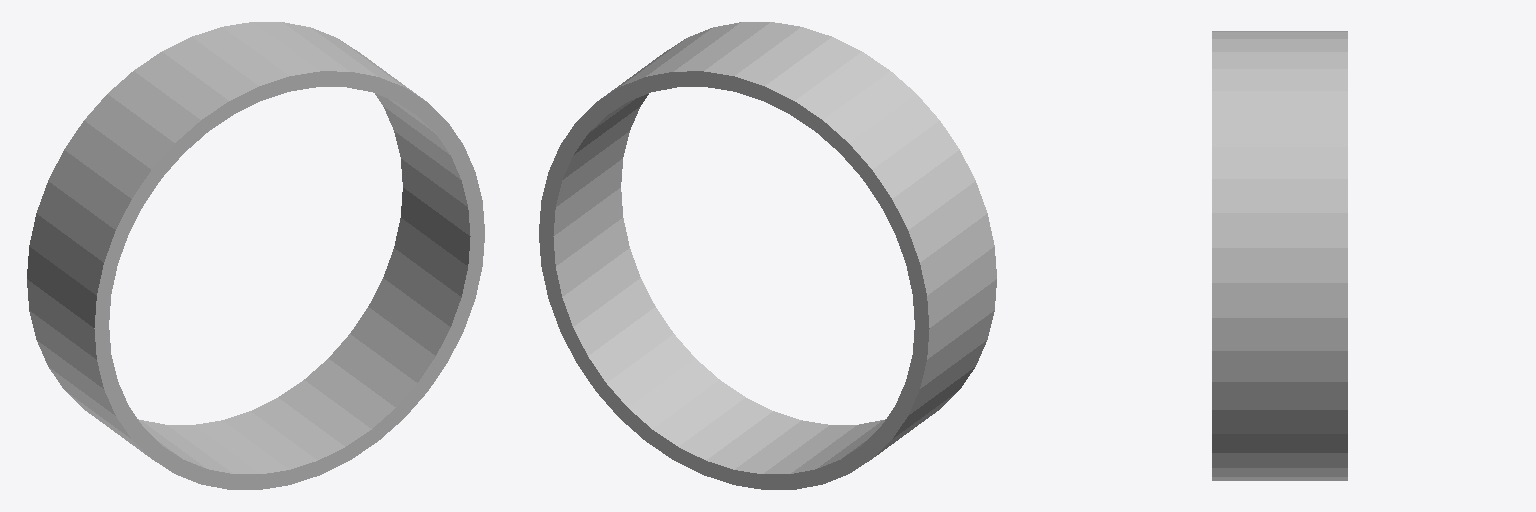
File: bike_loop.obj
3 renders of one model, left to right at view 1: azimuth 30°, elevation 25°; view 2: azimuth 150°, elevation 25°; view 3: azimuth 270°, elevation 25°, orthographic.
Parts seen in each view (by area): view 1: obj_0; view 2: obj_0; view 3: obj_0.
Boxes of the visible parts, <box> form: obj_0: <box>27,22,484,489</box>; obj_0: <box>539,22,996,489</box>; obj_0: <box>1212,31,1347,480</box>.
Bounding box in the file's own units: 100 × 100 × 30.